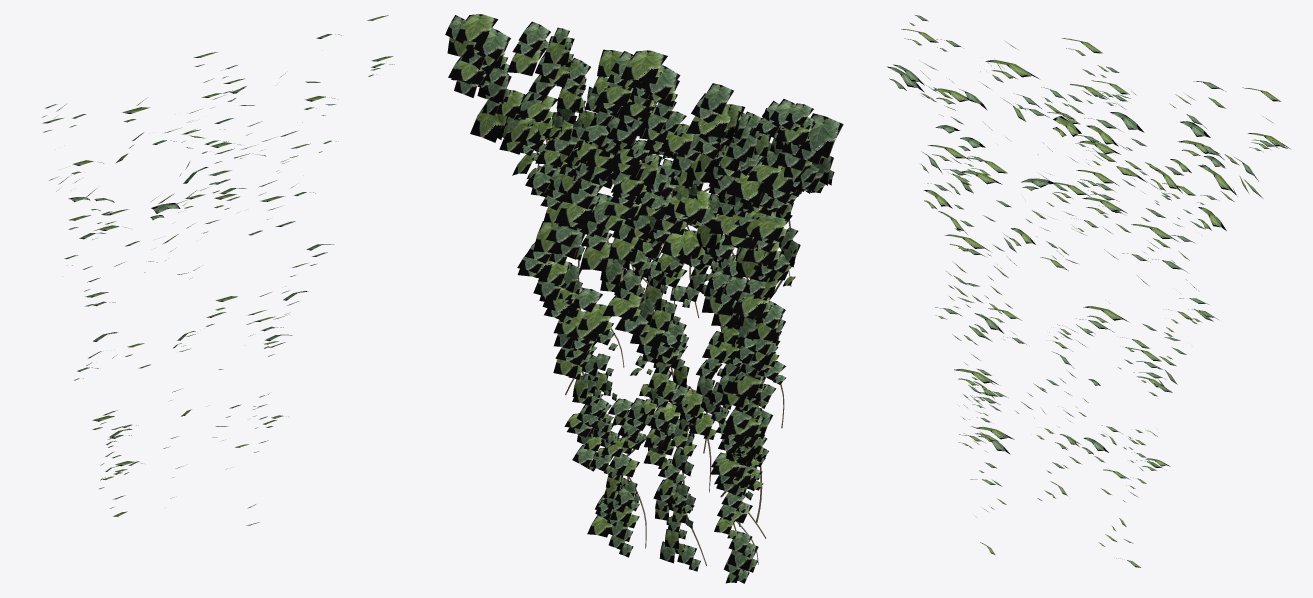
Rendered from SM_Ivy12_5f9ae8.glb.
3 renders of one model, left to right at view 1: azimuth 30°, elevation 25°; view 2: azimuth 150°, elevation 25°; view 3: azimuth 330°, elevation 25°, orthographic. The views are drawn at different scales.
Bounding box in the file's own units: 2.66 × 3.31 × 0.2633.
Materials: 1 (1 with a texture image).
